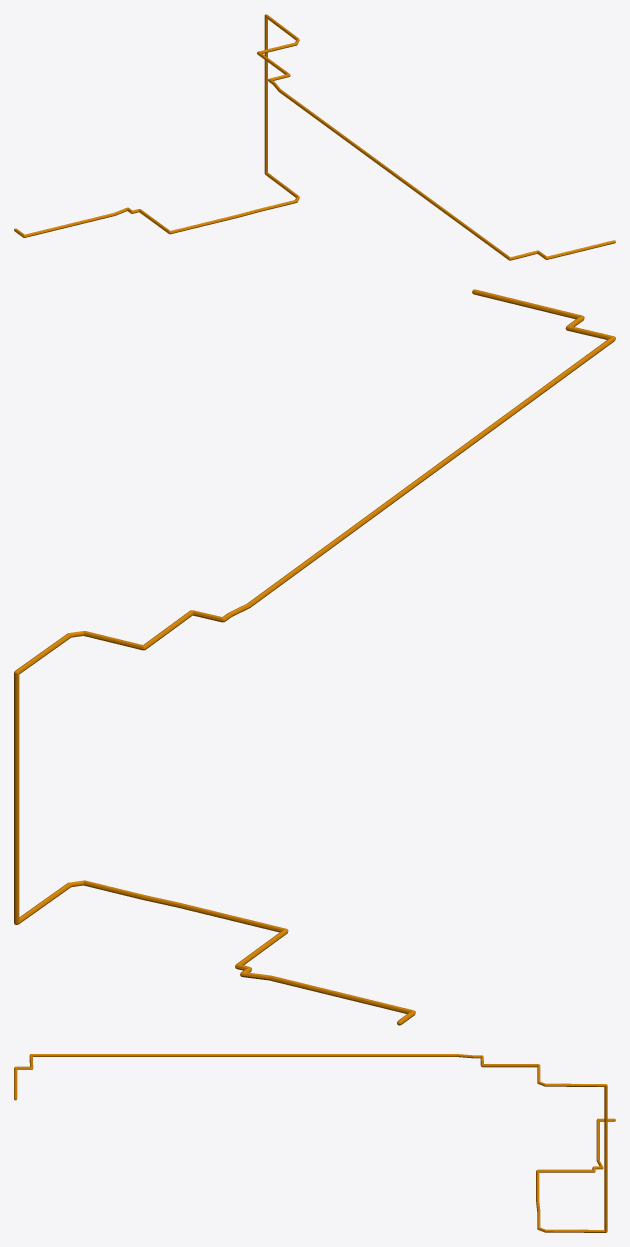
3 renders of one model, top to bottom at view 1: azimuth 30°, elevation 25°; view 2: azimuth 150°, elevation 25°; view 3: azimuth 270°, elevation 25°, orthographic. The views are drawn at different scales.
Size of the model in its own units: 1852 by 1020 by 3739.
